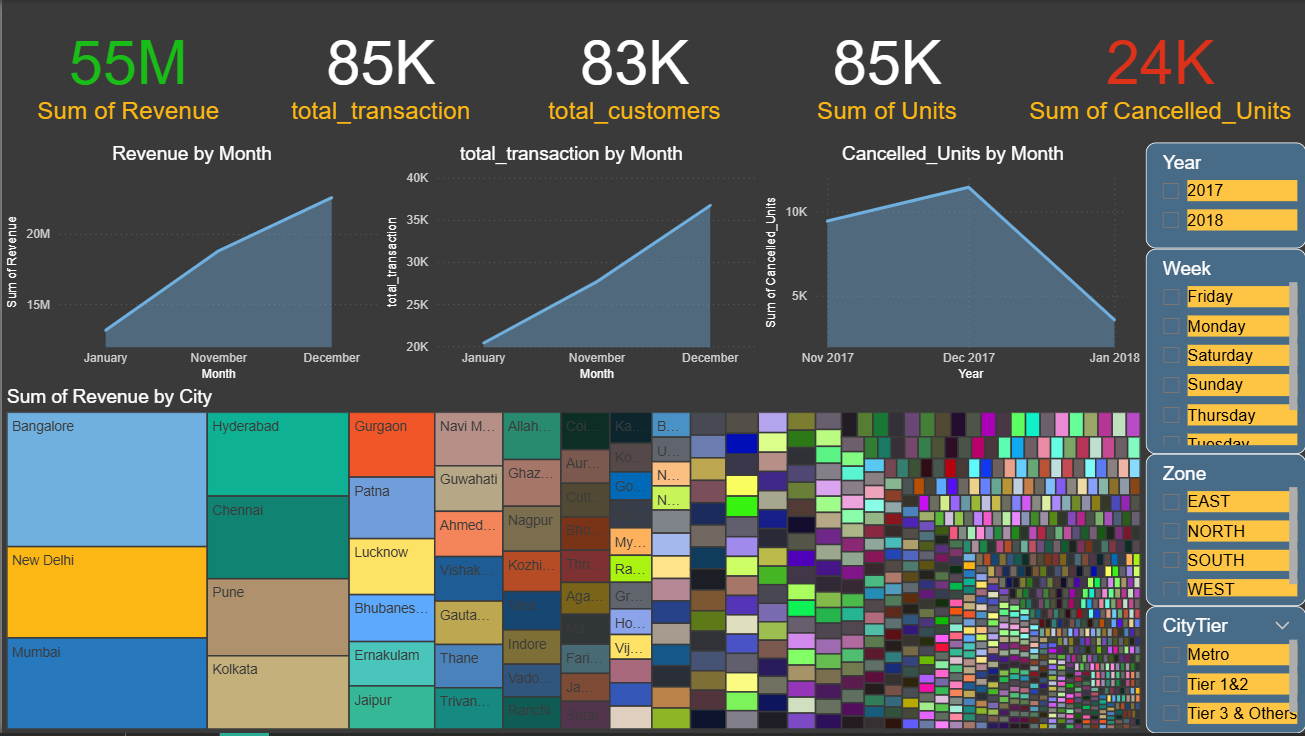

What the dashboard file says about the page in this screenshot:
{"tool":"powerbi","page":{"name":"Page 1","canvas":[1280,720],"ordinal":0},"visuals":[{"type":"card","fields":{"Values":["Sum(Sales Raw.Units)"]},"box":[745.1,0,248.4,140],"z":0},{"type":"card","fields":{"Values":["Sales Raw.total_transaction"]},"box":[248.4,0,248.4,140],"z":1000},{"type":"card","fields":{"Values":["Sales Raw.total_customers"]},"box":[496.7,0,248.4,140],"z":2000},{"type":"card","fields":{"Values":["Sum(Sales Raw.Revenue)"]},"box":[0,0,248.4,140],"z":3000},{"type":"card","fields":{"Values":["Sum(Sales Raw.Cancelled_Units)"]},"box":[993.5,0,286.8,140],"z":4000},{"type":"slicer","fields":{"Values":["Mod3_Raw_CityTier_v0 1.CityTier"]},"box":[1122.5,595.5,157.8,124.9],"z":5000},{"type":"slicer","fields":{"Values":["PinCode-Geo.Zone"]},"box":[1122.5,446,157.8,149.6],"z":6000},{"type":"slicer","fields":{"Values":["Sales Raw.OrderDate.Variation.Date Hierarchy.Year"]},"box":[1122.5,140,157.8,104.3],"z":7000},{"type":"slicer","fields":{"Values":["Sales Raw.OrderDayOfWeek"]},"box":[1122.5,244.3,157.8,201.7],"z":8000},{"type":"areaChart","title":"Revenue by Month","fields":{"Category":["Sales Raw.OrderDate.Variation.Date Hierarchy.Month"],"Y":["Sum(Sales Raw.Revenue)"]},"box":[0,140,373.2,238.8],"z":9000},{"type":"treemap","fields":{"Group":["PinCode-Geo.City"],"Values":["Sum(Sales Raw.Revenue)"]},"box":[0,378.7,1122.5,341.7],"z":10000},{"type":"areaChart","fields":{"Category":["Sales Raw.OrderDate.Variation.Date Hierarchy.Month"],"Y":["Sales Raw.total_transaction"]},"box":[373.2,140,371.9,238.8],"z":11000},{"type":"areaChart","title":"Cancelled_Units by Month","fields":{"Category":["Sales Raw.OrderDate.Variation.Date Hierarchy.Year","Sales Raw.OrderDate.Variation.Date Hierarchy.Month"],"Y":["Sum(Sales Raw.Cancelled_Units)"]},"box":[745.1,140,377.4,238.8],"z":12000}]}

Visuals, with their boxes in screenshot pixels (x1, y1, x2, y2), scaled from the page's 1280x720 canvas onto the 1305x736 screenshot:
card - Sum(Sales Raw.Units): box(760, 0, 1013, 143)
card - Sales Raw.total_transaction: box(253, 0, 507, 143)
card - Sales Raw.total_customers: box(506, 0, 760, 143)
card - Sum(Sales Raw.Revenue): box(0, 0, 253, 143)
card - Sum(Sales Raw.Cancelled_Units): box(1013, 0, 1304, 143)
slicer - Mod3_Raw_CityTier_v0 1.CityTier: box(1144, 609, 1304, 735)
slicer - PinCode-Geo.Zone: box(1144, 456, 1304, 609)
slicer - Sales Raw.OrderDate.Variation.Date Hierarchy.Year: box(1144, 143, 1304, 250)
slicer - Sales Raw.OrderDayOfWeek: box(1144, 250, 1304, 456)
"Revenue by Month" areaChart: box(0, 143, 380, 387)
treemap - PinCode-Geo.City x Sum(Sales Raw.Revenue): box(0, 387, 1144, 735)
areaChart - Sales Raw.OrderDate.Variation.Date Hierarchy.Month x Sales Raw.total_transaction: box(380, 143, 760, 387)
"Cancelled_Units by Month" areaChart: box(760, 143, 1144, 387)
